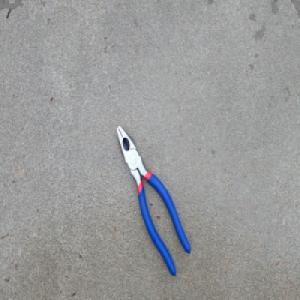Pliers: (116, 123, 192, 279)
